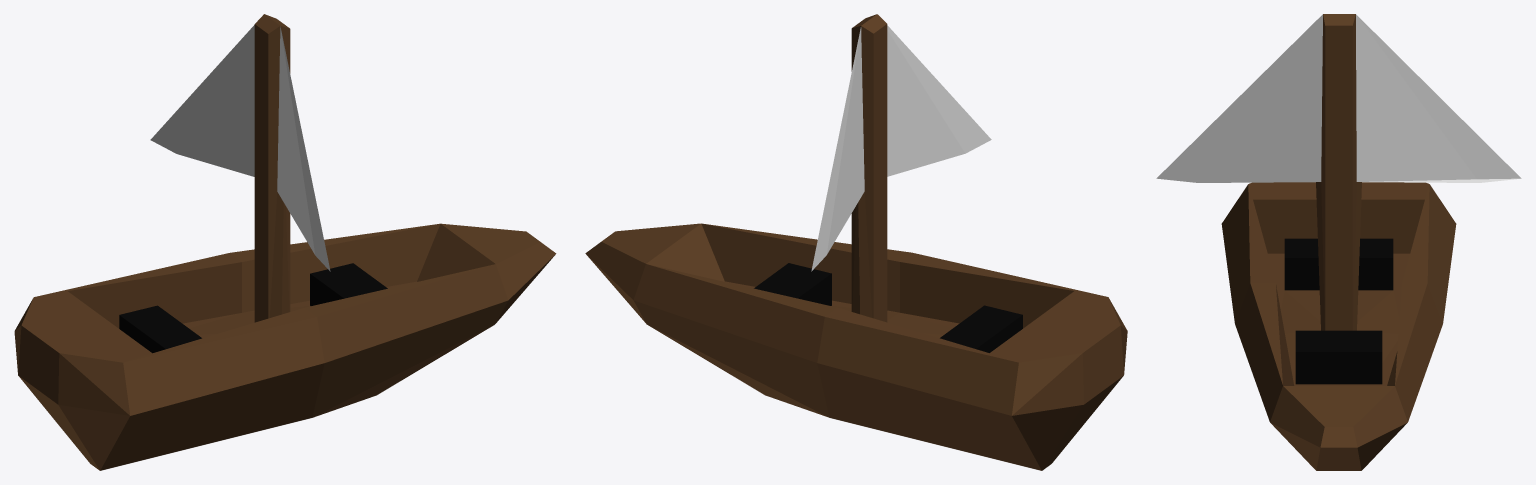
Rendered from LowPolySailBoat.fbx.
The picture shows the model from 3 angles, left to right: view 1: azimuth 30°, elevation 25°; view 2: azimuth 150°, elevation 25°; view 3: azimuth 270°, elevation 25°; orthographic projection.
Parts seen in each view (by area): view 1: LowPolyBoat; view 2: LowPolyBoat; view 3: LowPolyBoat.
Boxes of the visible parts, x1=… form: LowPolyBoat: x1=14, y1=14, x2=556, y2=470; LowPolyBoat: x1=585, y1=14, x2=1127, y2=470; LowPolyBoat: x1=1156, y1=14, x2=1521, y2=470.
Bounding box in the file's own units: 1683 × 1276 × 1033.
